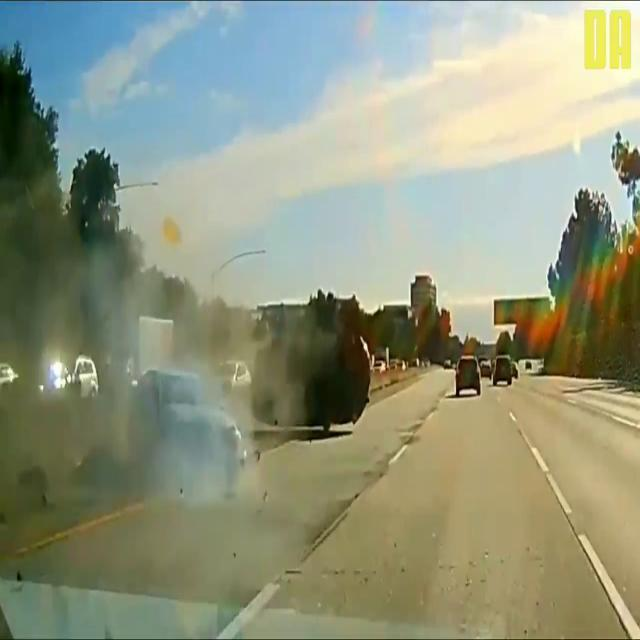multiple_accident: (97, 355, 293, 548), (227, 265, 407, 458)
